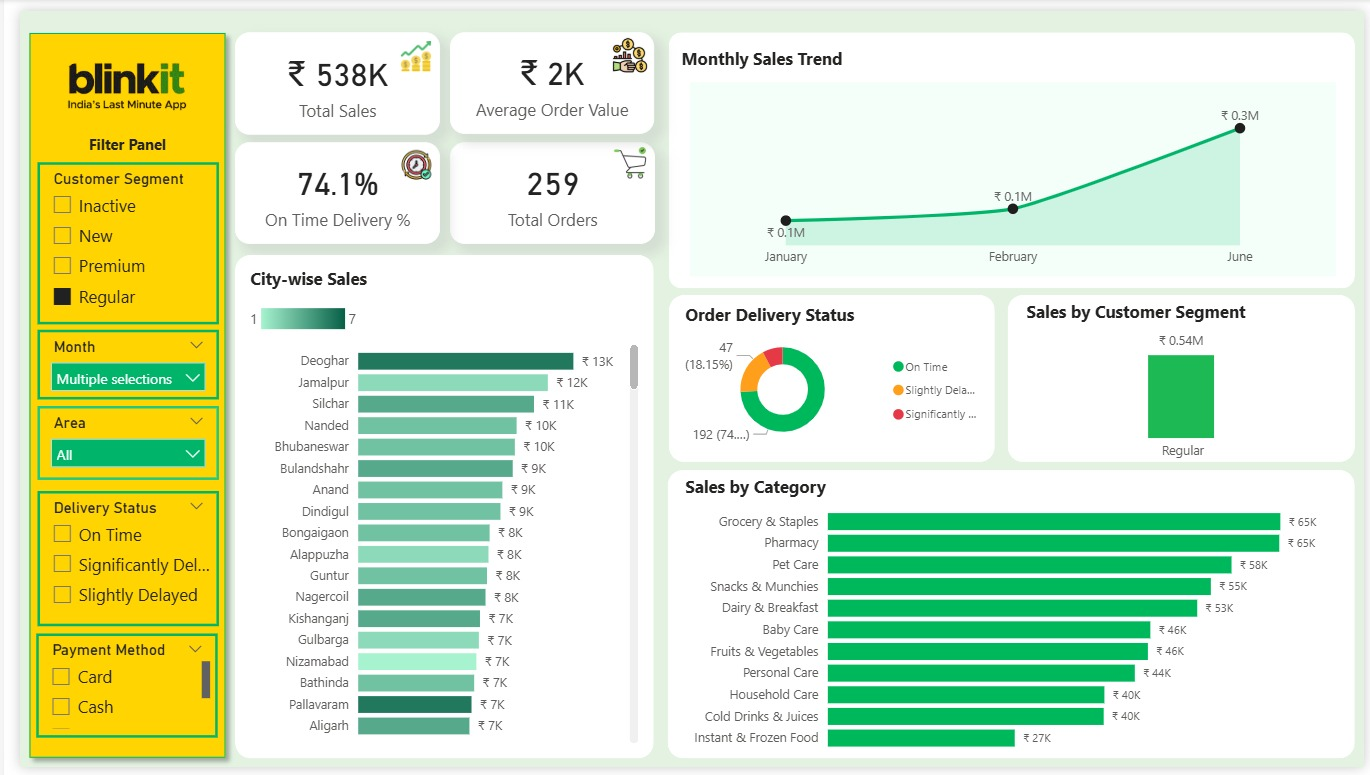

Layout of this report page (visuals, bound fields, positions):
{"tool":"powerbi","page":{"name":"Page 1","canvas":[1280,720],"ordinal":0},"visuals":[{"type":"card","fields":{"Values":["Orders.Total Sales"]},"box":[204.8,20.2,195.2,97.6],"z":0},{"type":"shape","box":[617.9,20.2,653.6,244],"z":1000},{"type":"areaChart","fields":{"Category":["Orders.order_date.Variation.Date Hierarchy.Month"],"Y":["Orders.Total Sales"]},"box":[638.1,67.9,615.5,184.5],"z":2000},{"type":"textbox","box":[625.2,28.9,200,31.4],"z":3000},{"type":"shape","box":[0,11.9,204.8,708.3],"z":4000},{"type":"image","box":[6,0,191.7,144],"z":5000},{"type":"slicer","fields":{"Values":["Orders.order_date.Variation.Date Hierarchy.Month"]},"box":[16.7,303.8,172.6,66.7],"z":6000},{"type":"slicer","fields":{"Values":["blinkit_customers.customer_segment"]},"box":[16.7,144,172.6,154.8],"z":7000},{"type":"slicer","fields":{"Values":["blinkit_customers.area"]},"box":[16.7,376.4,172.6,70.2],"z":8000},{"type":"slicer","fields":{"Values":["Orders.delivery_status"]},"box":[16.7,457.1,172.6,128.6],"z":9000},{"type":"slicer","fields":{"Values":["Orders.payment_method"]},"box":[15.5,593,172.6,98.8],"z":10000},{"type":"textbox","box":[34.5,111.9,135.7,32.1],"z":11000},{"type":"shape","box":[616.7,436.9,654.8,275],"z":12000},{"type":"barChart","fields":{"Category":["Products.category"],"Y":["Orders.Total Sales"]},"box":[628.6,457.1,623.8,257.1],"z":13000},{"type":"textbox","box":[628.6,436.9,148.8,42.9],"z":14000},{"type":"card","fields":{"Values":["Orders.Total Orders"]},"box":[409.5,125,195.2,96.4],"z":15000},{"type":"card","fields":{"Values":["Orders.Average Order Value"]},"box":[409.5,20.2,194,96.4],"z":16000},{"type":"card","fields":{"Values":["Orders.On Time Delivery %"]},"box":[204.8,125,195.2,96.4],"z":17000},{"type":"shape","box":[204.8,232.1,398.8,479.8],"z":18000},{"type":"barChart","fields":{"Category":["blinkit_customers.area"],"Y":["Orders.Total Sales"]},"box":[214.3,275,379.8,427.4],"z":19000},{"type":"textbox","box":[214.3,238.1,326.2,36.9],"z":20000},{"type":"shape","box":[940.5,270.2,331,159.5],"z":21000},{"type":"columnChart","fields":{"Category":["blinkit_customers.customer_segment"],"Y":["Orders.Total Sales"]},"box":[953.6,292.9,308.3,144],"z":22000},{"type":"shape","box":[617.9,270.2,310.7,159.5],"z":23000},{"type":"donutChart","fields":{"Category":["Orders.delivery_status"],"Y":["Orders.Total Orders"]},"box":[616.7,303.6,310.7,114.3],"z":24000},{"type":"textbox","box":[953.6,270.2,300,44],"z":24001},{"type":"textbox","box":[628.6,272.6,227.4,60.7],"z":24002},{"type":"image","box":[361.9,28.6,31,28.6],"z":24003},{"type":"image","box":[564.3,23.8,33.3,36.9],"z":24004},{"type":"image","box":[358.3,132.1,38.1,28.6],"z":24005},{"type":"image","box":[564.3,128.6,33.3,32.1],"z":24006}]}

Visuals, with their boxes in screenshot pixels (x1, y1, x2, y2), scaled from the page's 1280x720 canvas onto the 1370x775 screenshot:
card - Orders.Total Sales: [219, 22, 428, 127]
shape: [661, 22, 1361, 284]
areaChart - Orders.order_date.Variation.Date Hierarchy.Month x Orders.Total Sales: [683, 73, 1342, 272]
textbox: [669, 31, 883, 65]
shape: [0, 13, 219, 774]
image: [6, 0, 212, 155]
slicer - Orders.order_date.Variation.Date Hierarchy.Month: [18, 327, 203, 399]
slicer - blinkit_customers.customer_segment: [18, 155, 203, 322]
slicer - blinkit_customers.area: [18, 405, 203, 481]
slicer - Orders.delivery_status: [18, 492, 203, 630]
slicer - Orders.payment_method: [17, 638, 201, 745]
textbox: [37, 120, 182, 155]
shape: [660, 470, 1361, 766]
barChart - Products.category x Orders.Total Sales: [673, 492, 1340, 769]
textbox: [673, 470, 832, 516]
card - Orders.Total Orders: [438, 135, 647, 238]
card - Orders.Average Order Value: [438, 22, 646, 126]
card - Orders.On Time Delivery %: [219, 135, 428, 238]
shape: [219, 250, 646, 766]
barChart - blinkit_customers.area x Orders.Total Sales: [229, 296, 636, 756]
textbox: [229, 256, 579, 296]
shape: [1007, 291, 1361, 463]
columnChart - blinkit_customers.customer_segment x Orders.Total Sales: [1021, 315, 1351, 470]
shape: [661, 291, 994, 463]
donutChart - Orders.delivery_status x Orders.Total Orders: [660, 327, 993, 450]
textbox: [1021, 291, 1342, 338]
textbox: [673, 293, 916, 359]
image: [387, 31, 421, 62]
image: [604, 26, 640, 65]
image: [383, 142, 424, 173]
image: [604, 138, 640, 173]
